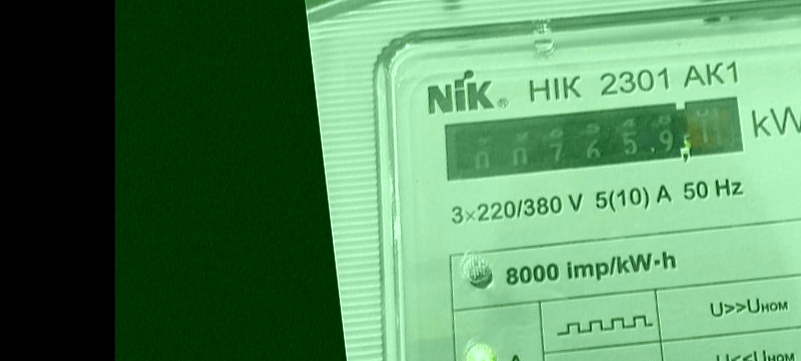0: (511, 141, 533, 169), (473, 145, 494, 173)
1: (698, 113, 715, 147)
5: (619, 127, 644, 156)
6: (584, 134, 605, 160)
7: (547, 138, 570, 165)
9: (657, 125, 678, 153)
screen: (432, 76, 758, 202)
